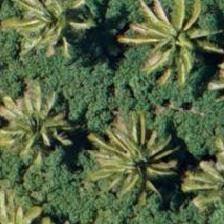coconut_tree: (93, 118, 183, 208), (130, 0, 220, 81), (0, 76, 78, 166), (9, 0, 99, 60)
